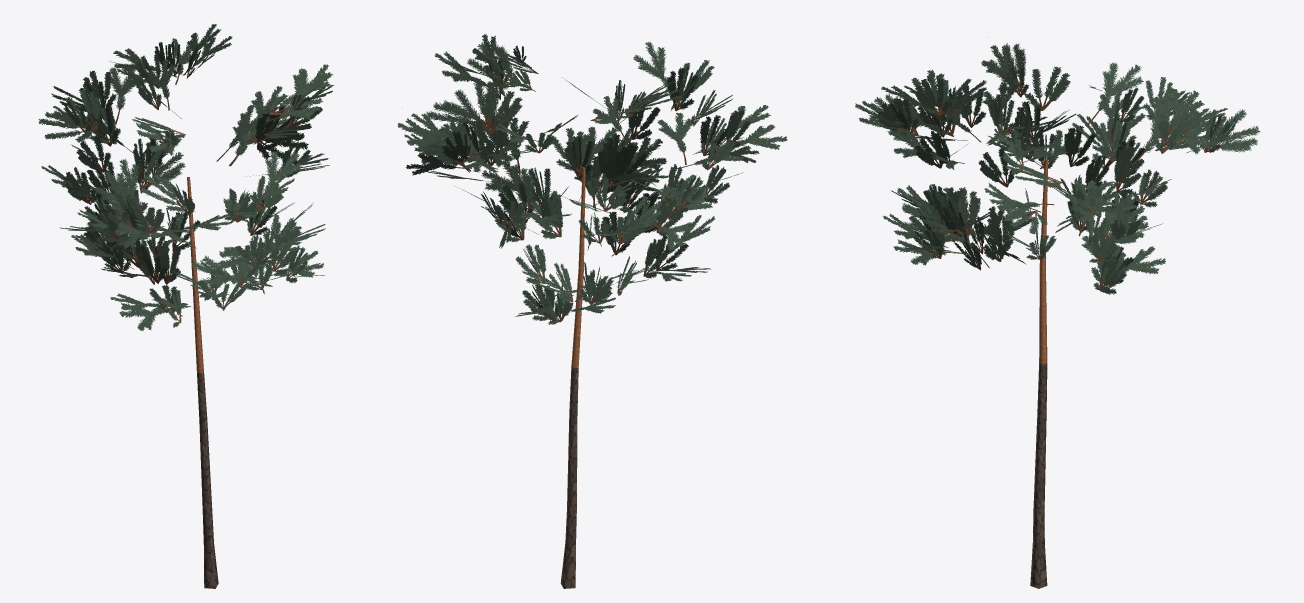
Rendered from pine_b_LOD2.glb.
3 renders of one model, left to right at view 1: azimuth 30°, elevation 25°; view 2: azimuth 150°, elevation 25°; view 3: azimuth 270°, elevation 25°, orthographic. The views are drawn at different scales.
Visible parts, largest first — view 1: Pine_B_LOD2_Foliage, Pine_B_LOD2_Bark; view 2: Pine_B_LOD2_Foliage, Pine_B_LOD2_Bark; view 3: Pine_B_LOD2_Foliage, Pine_B_LOD2_Bark.
Boxes of the visible parts, x1,y1,x2,y2 form: Pine_B_LOD2_Foliage: (38,24,333,330); Pine_B_LOD2_Bark: (187,177,218,588); Pine_B_LOD2_Foliage: (397,34,787,324); Pine_B_LOD2_Bark: (560,167,585,588); Pine_B_LOD2_Foliage: (855,43,1259,294); Pine_B_LOD2_Bark: (1030,158,1048,588).
Size of the model in its own units: 11.11 by 17.55 by 13.93.
Materials: 2 (2 with a texture image).
